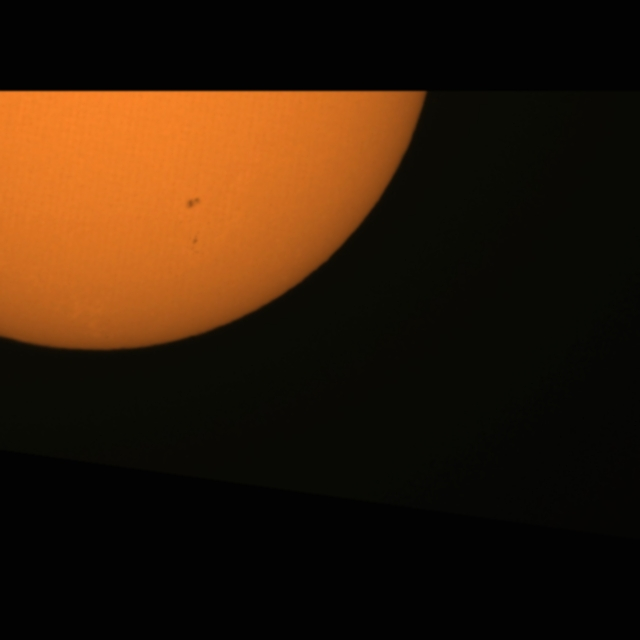sunspot: (184, 195, 202, 211), (191, 235, 199, 247)
